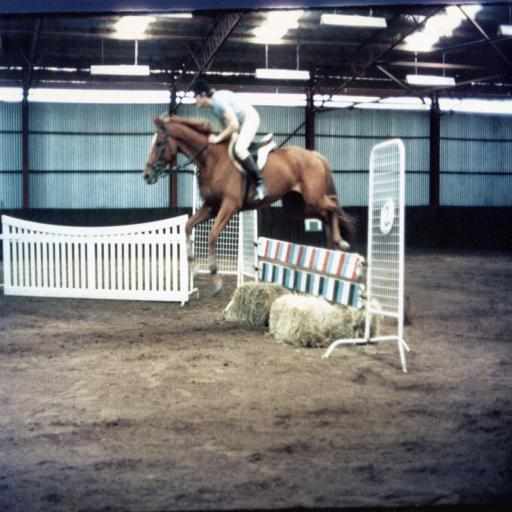horse: (142, 107, 361, 294)
